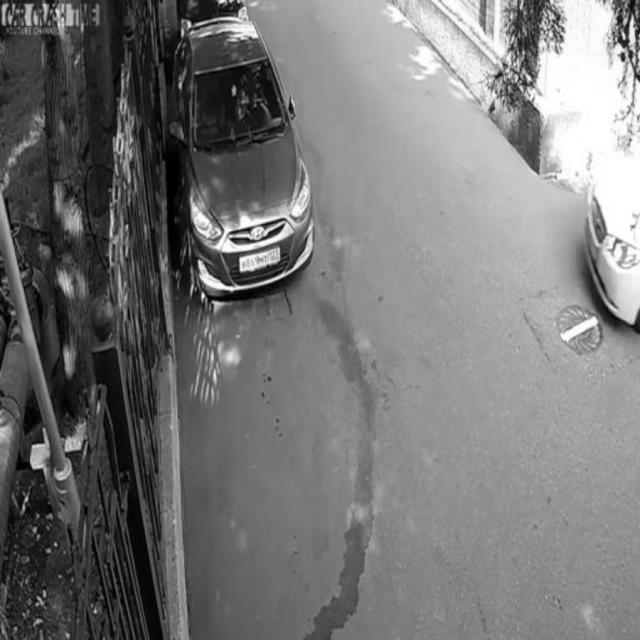vehicle: (169, 18, 317, 300), (583, 156, 640, 330)
